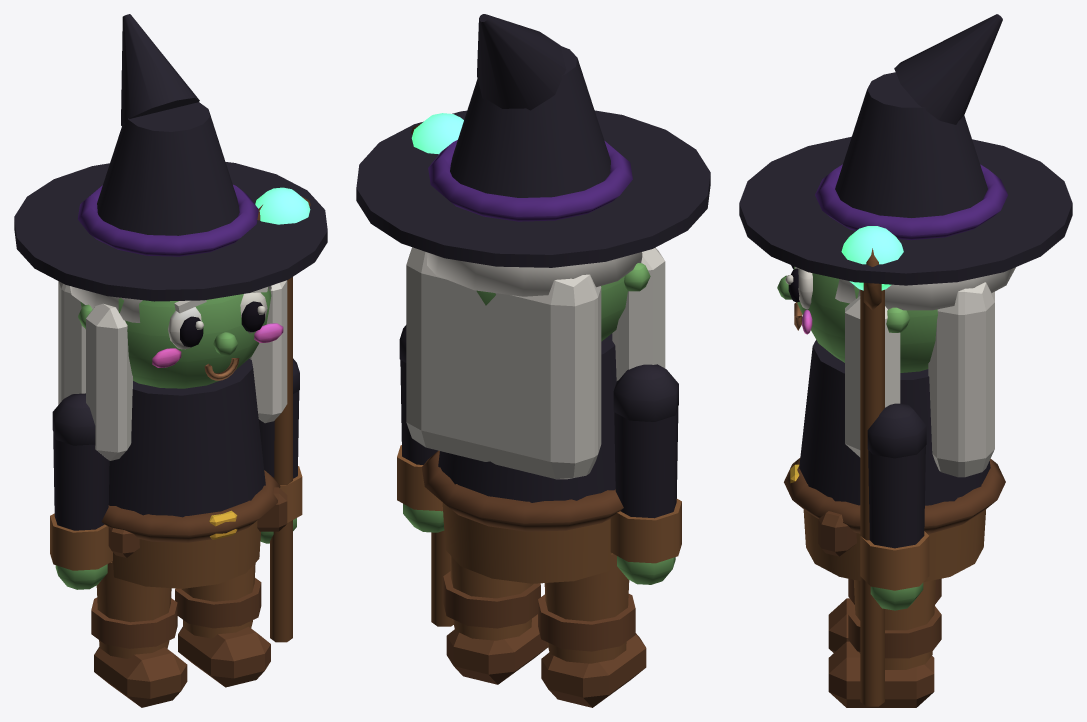
File: hero_griselda.glb
3 renders of one model, left to right at view 1: azimuth 30°, elevation 25°; view 2: azimuth 150°, elevation 25°; view 3: azimuth 270°, elevation 25°, orthographic. The views are drawn at different scales.
Parts seen in each view (by area): view 1: body_t0_palette, legl_t0_palette, arml_t0_palette, legr_t0_palette, armr_t0_palette, armr_t0_brew_green; view 2: body_t0_palette, arml_t0_palette, legl_t0_palette, legr_t0_palette, armr_t0_palette, armr_t0_brew_green; view 3: body_t0_palette, armr_t0_palette, legr_t0_palette, armr_t0_brew_green, legl_t0_palette.
Part boxes in pixels (x1,y1,x2,y2): body_t0_palette: [14, 14, 327, 588]; legl_t0_palette: [91, 562, 187, 707]; arml_t0_palette: [50, 393, 112, 589]; legr_t0_palette: [175, 563, 270, 687]; armr_t0_palette: [257, 196, 310, 642]; armr_t0_brew_green: [255, 187, 310, 224]; body_t0_palette: [356, 14, 710, 583]; arml_t0_palette: [610, 364, 681, 584]; legl_t0_palette: [538, 553, 646, 707]; legr_t0_palette: [443, 555, 547, 684]; armr_t0_palette: [397, 123, 453, 626]; armr_t0_brew_green: [411, 113, 463, 154]; body_t0_palette: [739, 14, 1072, 582]; armr_t0_palette: [860, 248, 929, 706]; legr_t0_palette: [828, 580, 941, 707]; armr_t0_brew_green: [841, 226, 903, 290]; legl_t0_palette: [828, 578, 941, 652].
Size of the model in its own units: 0.3 by 0.6592 by 0.3.
